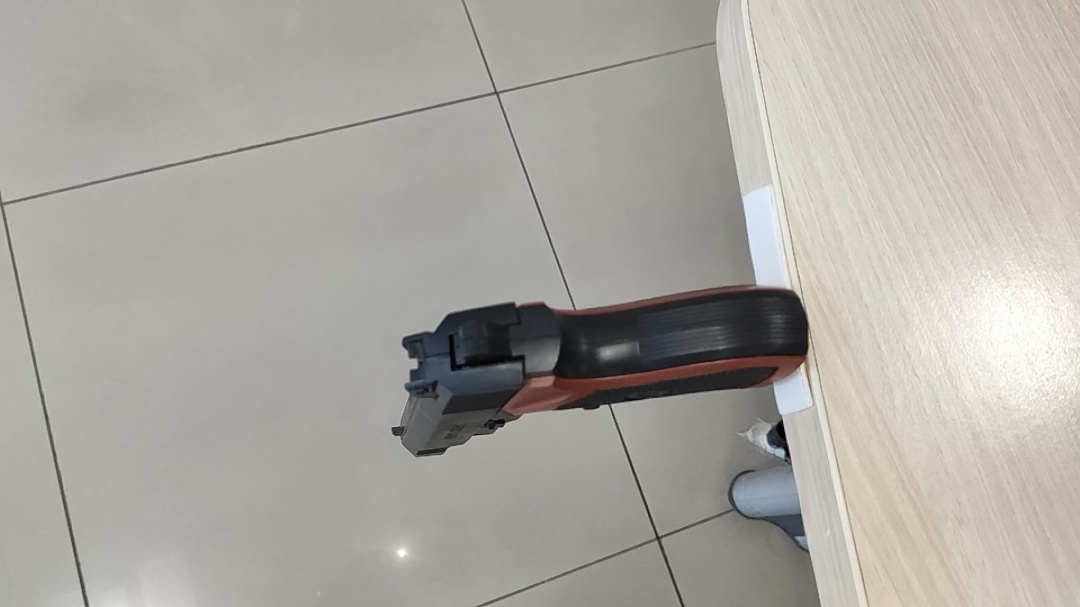gun: (391, 246, 548, 354)
